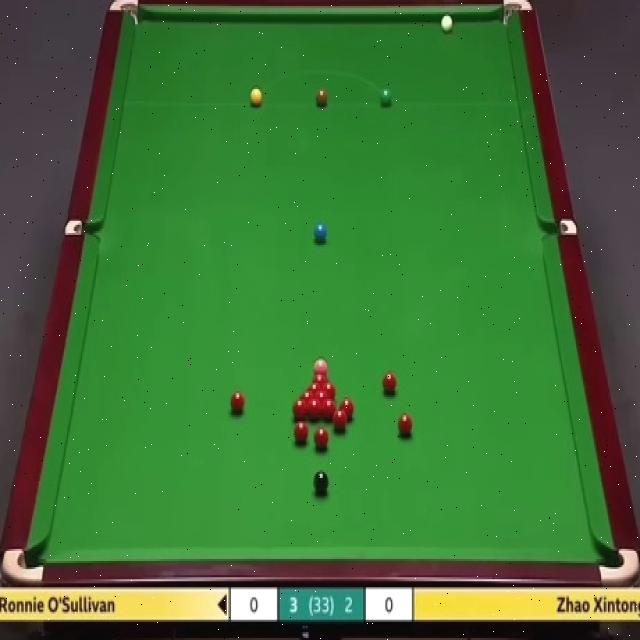black-ball: (314, 470, 329, 496)
blue-ball: (314, 223, 327, 242)
brown-ball: (315, 88, 328, 107)
green-ball: (380, 87, 392, 107)
pink-ball: (313, 356, 327, 369)
red-ball: (397, 412, 415, 440), (229, 391, 246, 416), (294, 421, 310, 444), (291, 397, 307, 420), (339, 397, 354, 421), (382, 372, 397, 396), (314, 427, 329, 450), (322, 398, 337, 421), (332, 410, 347, 432), (307, 397, 321, 419), (323, 380, 336, 397), (310, 370, 328, 380), (306, 381, 322, 390), (300, 390, 314, 399), (314, 390, 329, 398)
white-ball: (440, 11, 455, 36)
yellow-ball: (249, 88, 262, 106)
